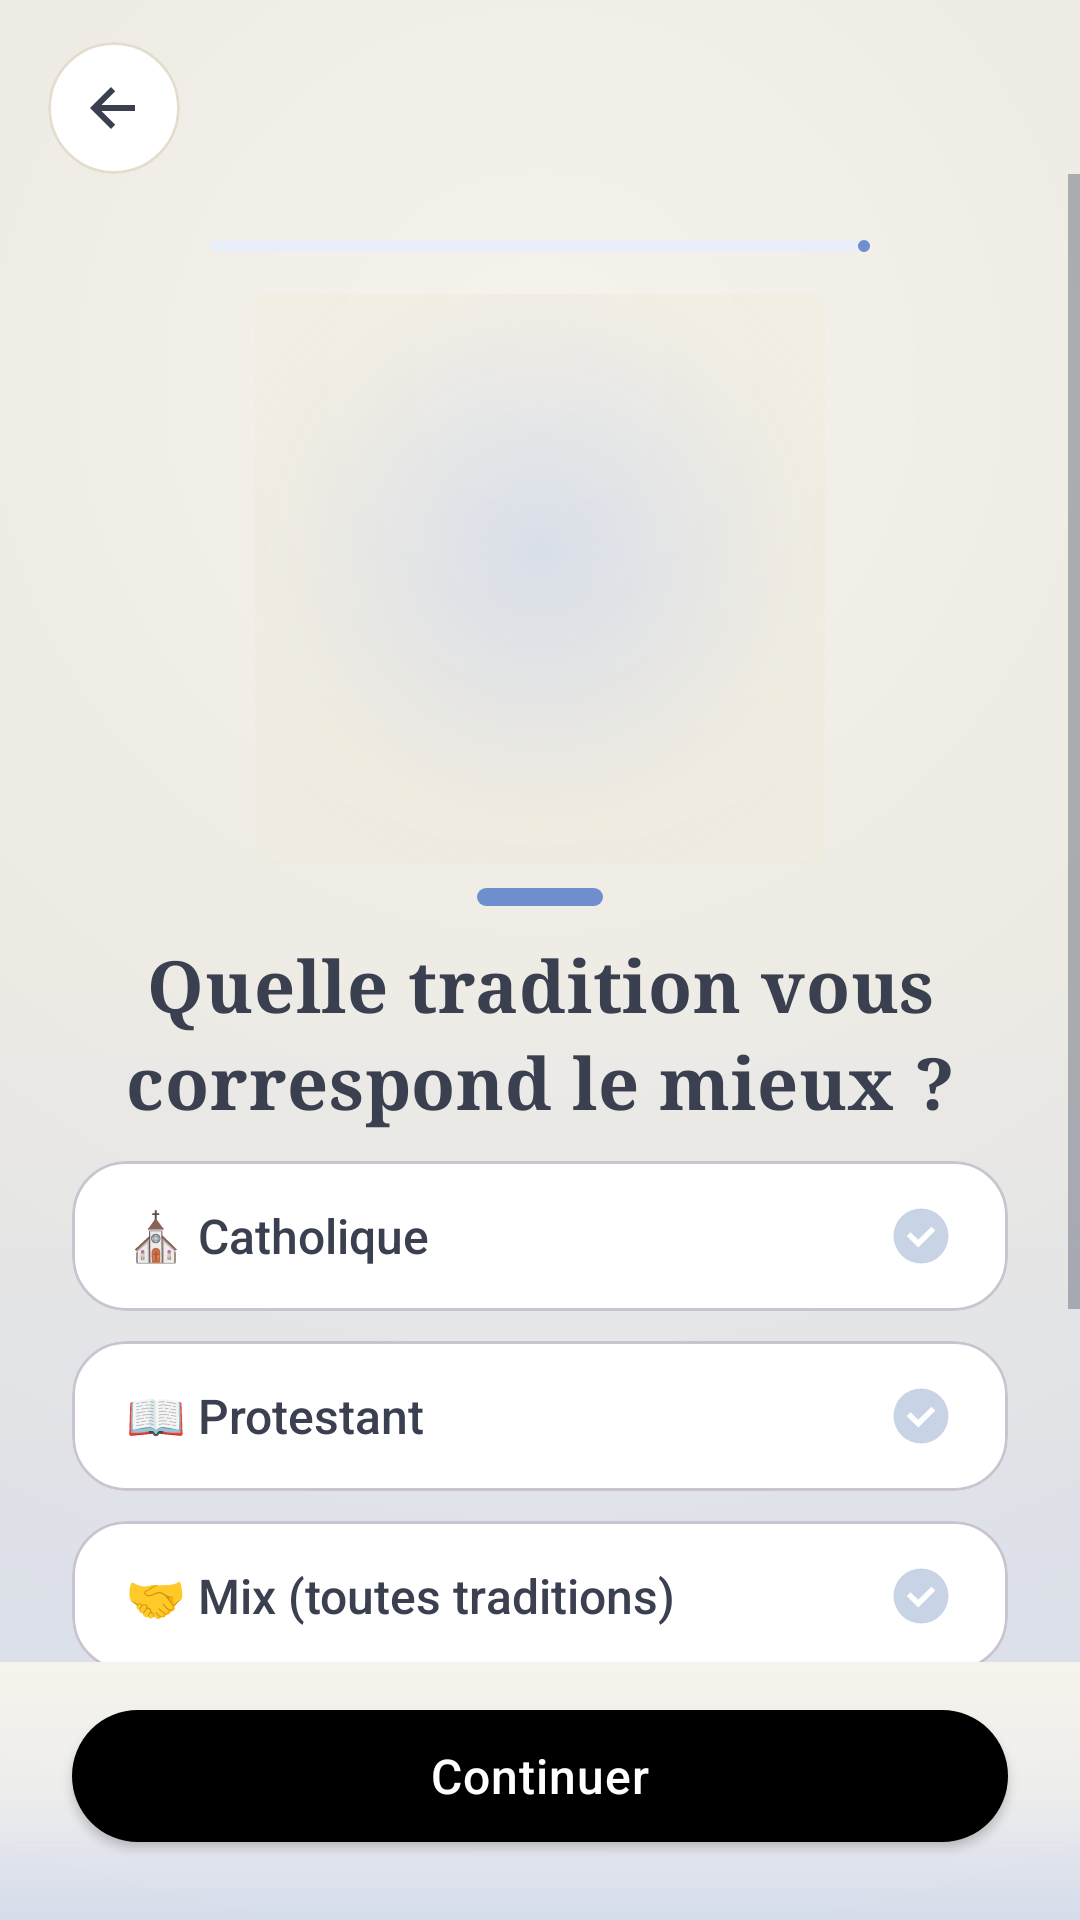

Icon click points for this 1080x1920 phone screenshot, format (x=x, y=y):
Back: (x=114, y=108)
Selected: (x=920, y=1236), (x=920, y=1416), (x=920, y=1596)
